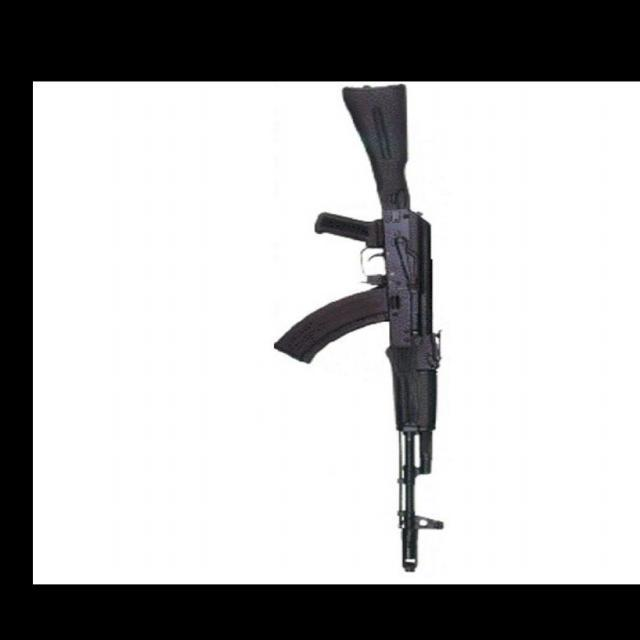weapon: (272, 84, 447, 577)
